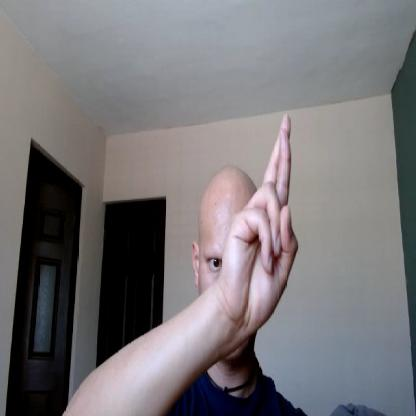R: (223, 109, 300, 337)
